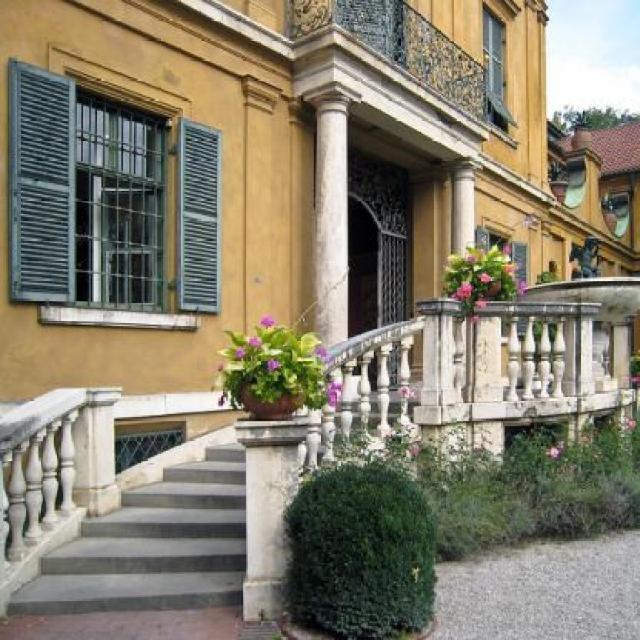stair: (11, 449, 248, 598)
